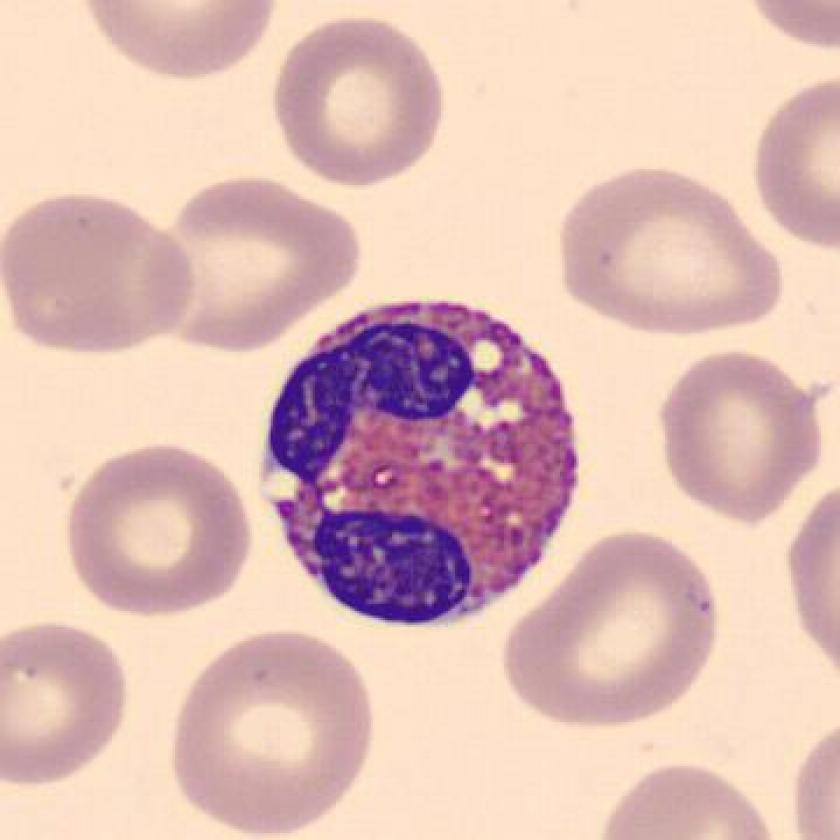eosinophil: (253, 293, 591, 640)
